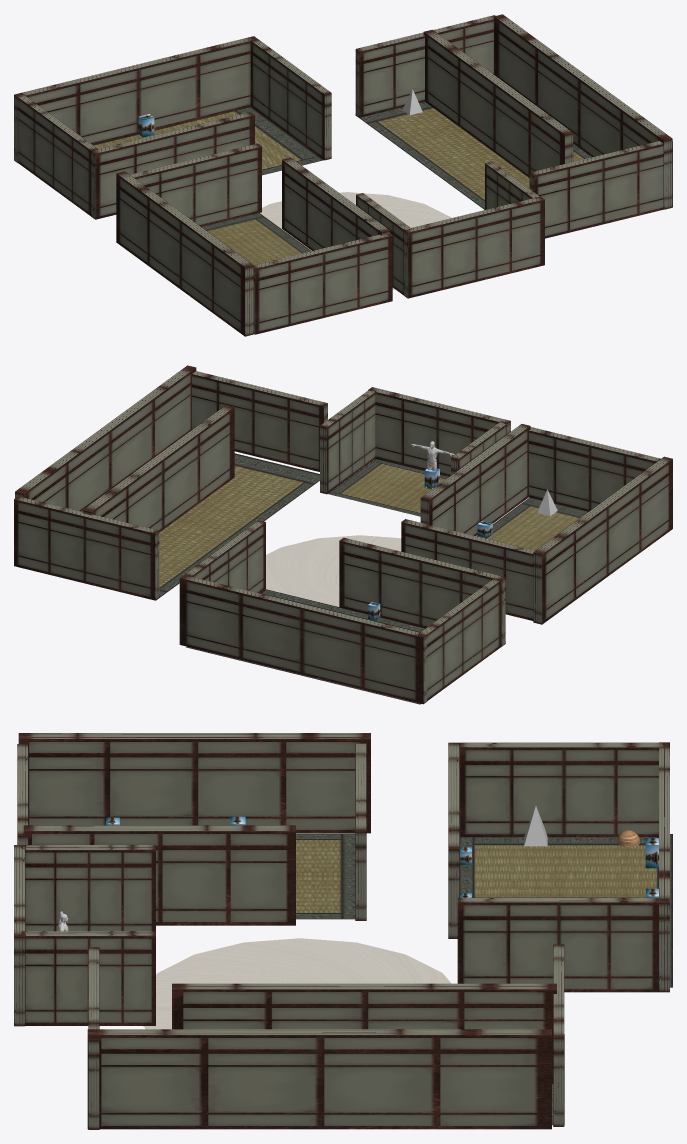
The picture shows the model from 3 angles, top to bottom: view 1: azimuth 30°, elevation 25°; view 2: azimuth 150°, elevation 25°; view 3: azimuth 270°, elevation 25°; orthographic projection. The views are drawn at different scales.
Parts seen in each view (by area): view 1: Stage2two, kaitenyuka; view 2: Stage2two, kaitenyuka; view 3: Stage2two, kaitenyuka.
Boxes of the visible parts, x1,y1,x2,y2 form: Stage2two: (14, 14, 672, 336); kaitenyuka: (260, 192, 451, 289); Stage2two: (14, 365, 672, 704); kaitenyuka: (266, 535, 401, 606); Stage2two: (14, 733, 672, 1129); kaitenyuka: (143, 938, 451, 1029).
Bounding box in the file's own units: 1891 × 402 × 1742.
